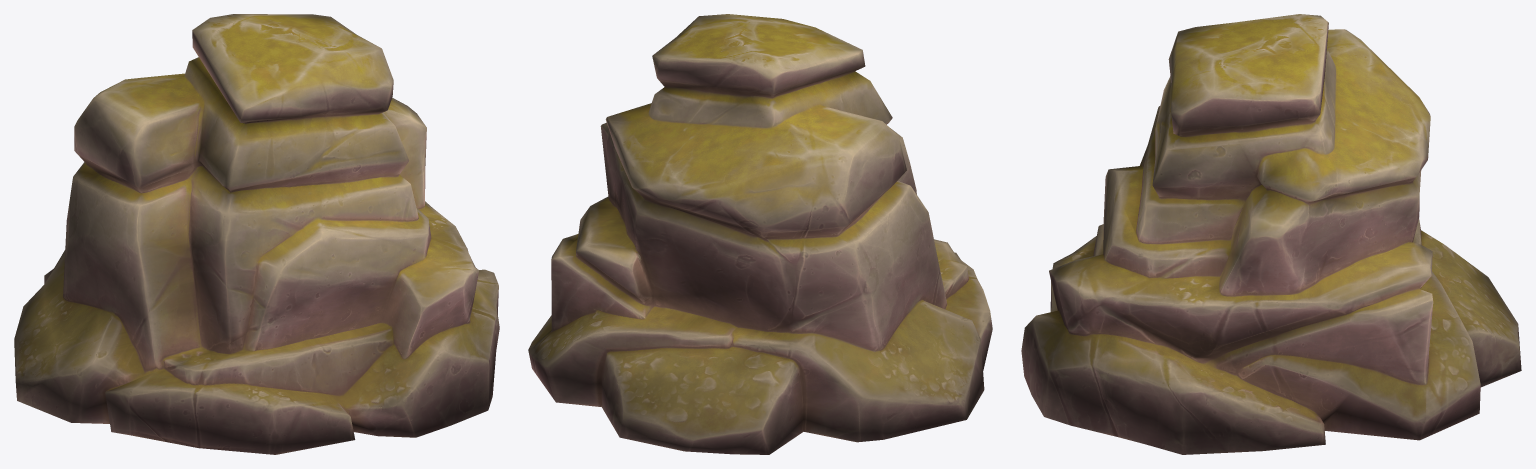
File: big_stone.glb
3 renders of one model, left to right at view 1: azimuth 30°, elevation 25°; view 2: azimuth 150°, elevation 25°; view 3: azimuth 270°, elevation 25°, orthographic. The views are drawn at different scales.
Parts seen in each view (by area): view 1: Stone_low; view 2: Stone_low; view 3: Stone_low.
Boxes of the visible parts, bbox=[...] form: Stone_low: bbox=[14, 14, 499, 454]; Stone_low: bbox=[528, 14, 992, 454]; Stone_low: bbox=[1021, 14, 1521, 454].
Bounding box in the file's own units: 3.83 × 2.83 × 3.89.
Materials: 1 (1 with a texture image).
